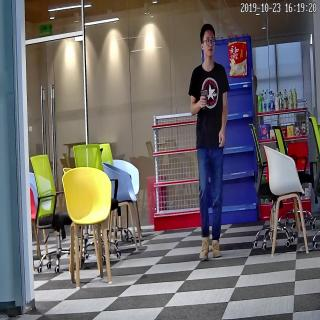gun: (198, 86, 211, 113)
